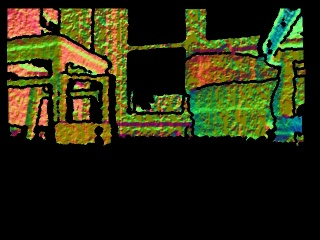station: (51, 72, 113, 145)
